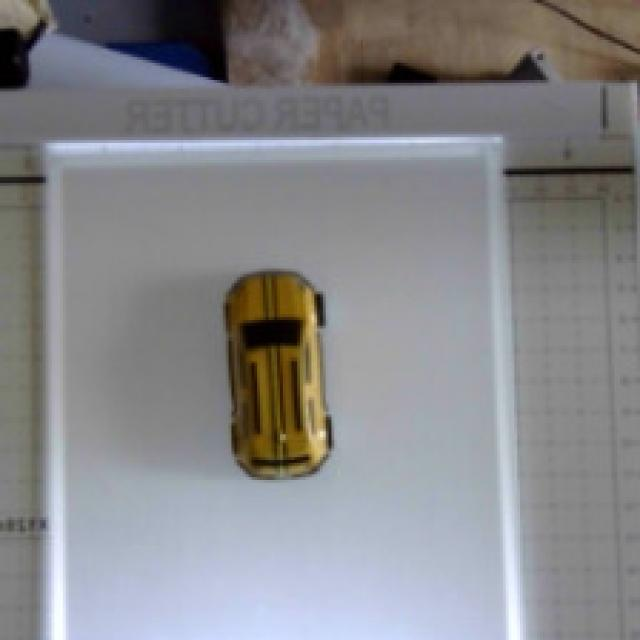Yellow Car: (187, 230, 425, 533)
